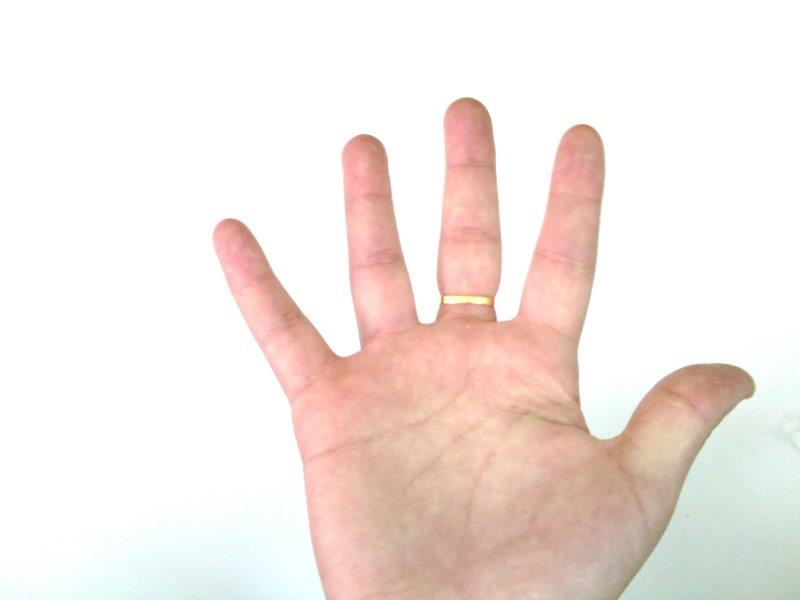hand: (213, 97, 756, 600)
